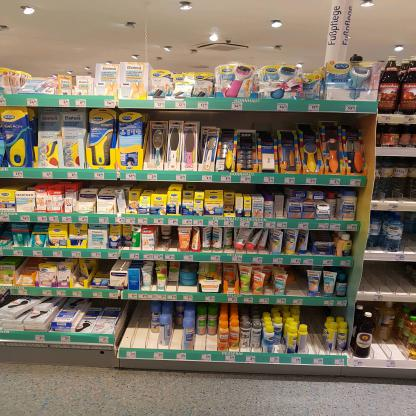Void: (373, 310, 406, 361), (365, 261, 415, 292), (126, 302, 146, 345), (288, 267, 306, 295)
